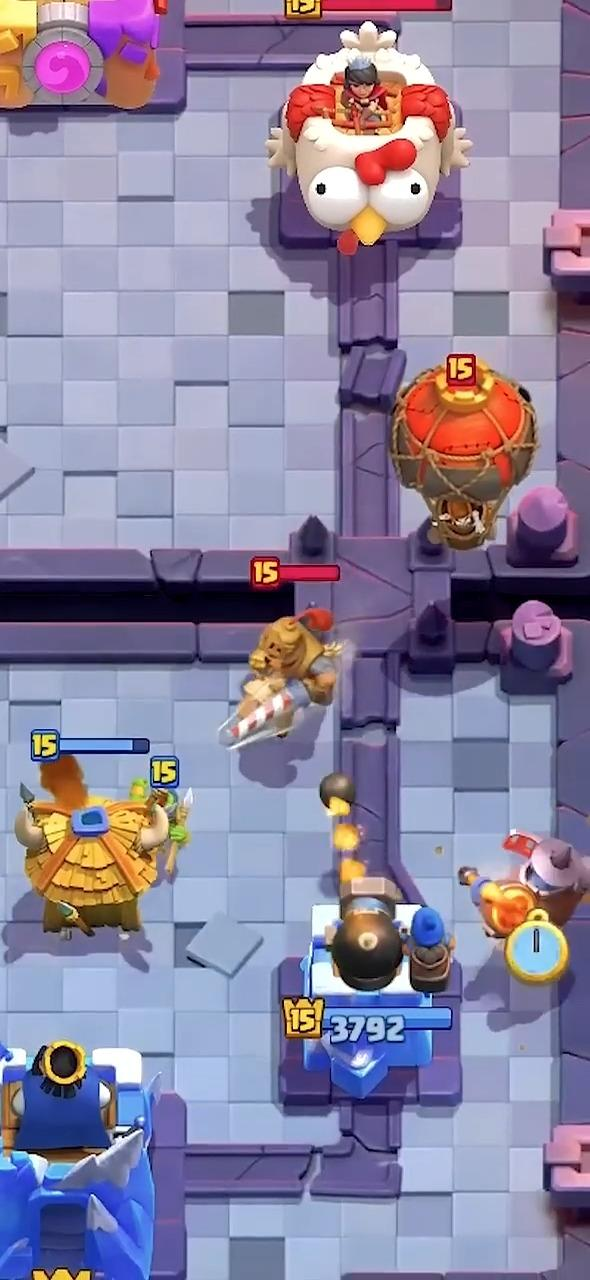baloon: (391, 356, 537, 550)
furnace: (459, 830, 589, 939)
goblin hut: (14, 755, 168, 939)
prince: (221, 608, 341, 749)
spear goblin: (165, 789, 191, 858)
